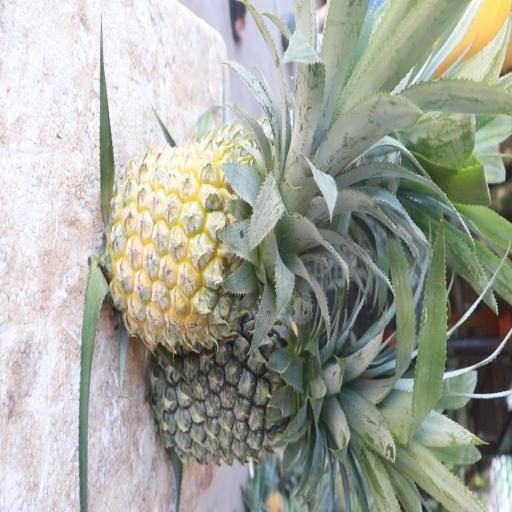Pineapple - v8 v1: (110, 140, 336, 340)
